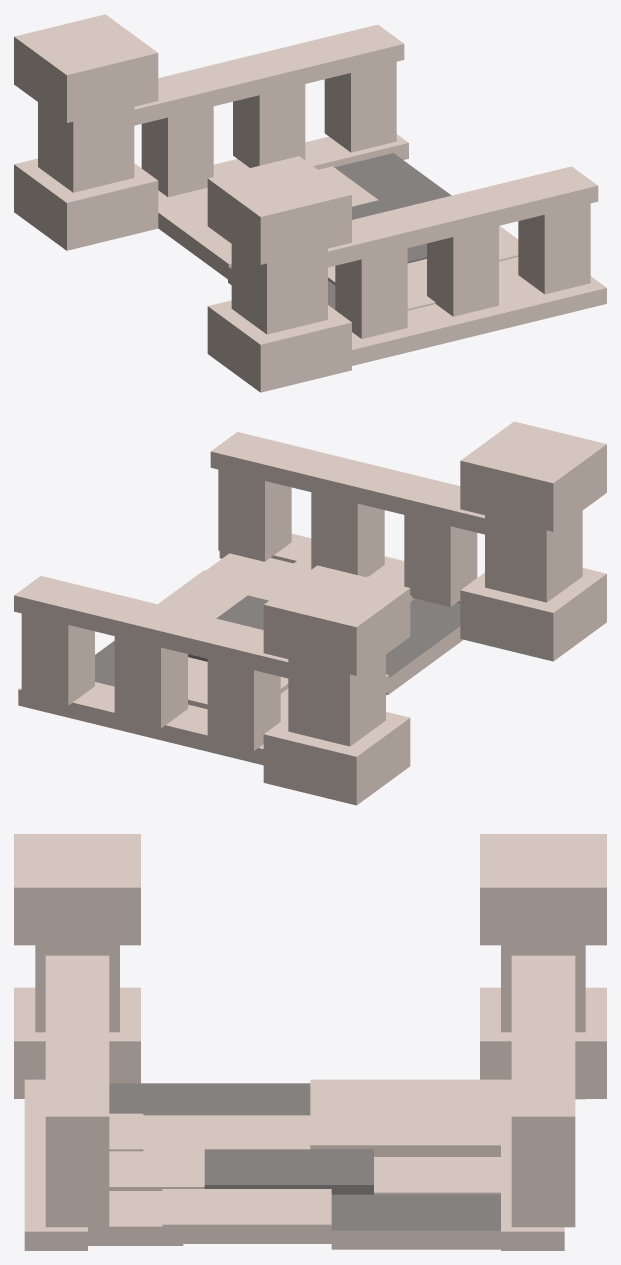
File: bridge_pillars_a.gltf
3 views of the same model, one above another, from view 1: azimuth 30°, elevation 25°; view 2: azimuth 150°, elevation 25°; view 3: azimuth 270°, elevation 25° (orthographic). The views are drawn at different scales.
Parts seen in each view (by area): view 1: bridge_rail, pillars_side_b, rubble_8, bridge_rubble1, rubble_3, rubble_5, rubble_4, rubble_11, rubble_2, rubble_10; view 2: bridge_rail, pillars_side_b, rubble_7, rubble_2, rubble_11, rubble_3, rubble_5, bridge_rubble1, rubble_4; view 3: pillars_side_b, bridge_rail, bridge_rubble1, rubble_2, rubble_9, rubble_3, rubble_7, rubble_8, rubble_6, rubble_4, rubble_5, rubble_11 (+1 smaller).
Boxes of the visible parts, x1,y1,x2,y2 form: bridge_rail: (134, 24, 606, 365); pillars_side_b: (14, 14, 351, 392); rubble_8: (158, 188, 231, 279); bridge_rubble1: (334, 153, 451, 208); rubble_3: (352, 198, 426, 263); rubble_5: (407, 259, 525, 317); rubble_4: (318, 166, 378, 206); rubble_11: (499, 257, 526, 286); rubble_2: (499, 225, 518, 261); rubble_10: (407, 283, 435, 310); bridge_rail: (14, 432, 484, 765); pillars_side_b: (263, 421, 606, 805); rubble_7: (386, 598, 463, 694); rubble_2: (158, 570, 263, 618); rubble_11: (205, 553, 293, 584); rubble_3: (188, 595, 268, 661); rubble_5: (250, 551, 311, 600); bridge_rubble1: (95, 641, 114, 686); rubble_4: (188, 657, 207, 695); pillars_side_b: (14, 834, 606, 1099); bridge_rail: (24, 955, 575, 1250); bridge_rubble1: (331, 1194, 500, 1249); rubble_2: (162, 1189, 331, 1243); rubble_9: (310, 1109, 500, 1156); rubble_3: (204, 1149, 373, 1194); rubble_7: (109, 1083, 310, 1115); rubble_8: (310, 1079, 511, 1115); rubble_6: (143, 1115, 310, 1151); rubble_4: (374, 1157, 500, 1194); rubble_5: (35, 1151, 204, 1190); rubble_11: (88, 1191, 183, 1245).
Bounding box in the file's own units: 1.44 × 0.7188 × 1.75.
2 materials, 2 textured.
